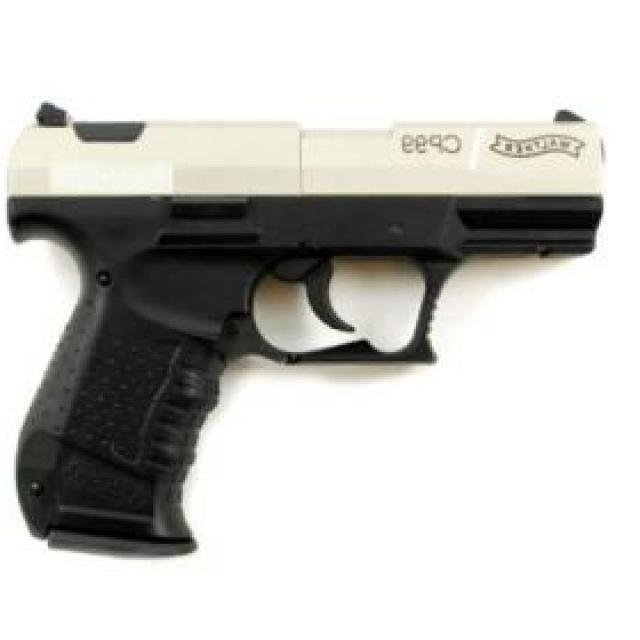pistol: (7, 101, 608, 560)
